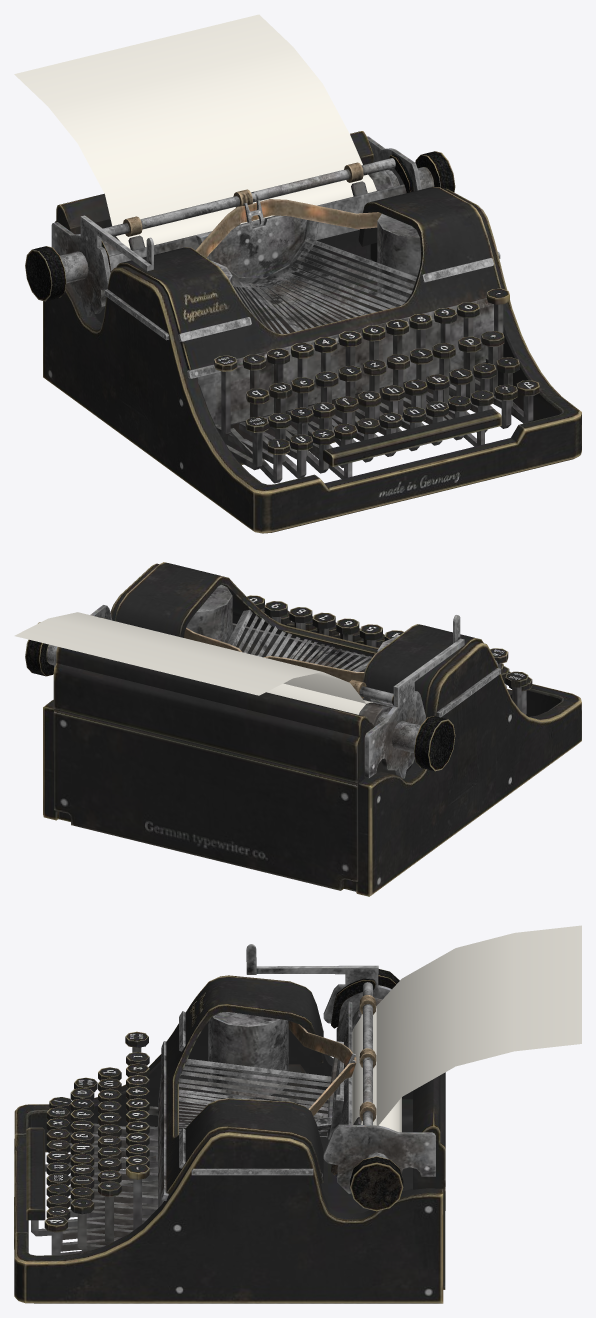
File: typewriter_01.gltf
The picture shows the model from 3 angles, top to bottom: view 1: azimuth 30°, elevation 25°; view 2: azimuth 150°, elevation 25°; view 3: azimuth 270°, elevation 25°; orthographic projection.
Visible parts, largest first — view 1: typewriter, paper; view 2: typewriter, paper; view 3: typewriter, paper.
Boxes of the visible parts, x1=… form: typewriter: x1=25, y1=131, x2=581, y2=533; paper: x1=14, y1=14, x2=376, y2=248; typewriter: x1=25, y1=562, x2=581, y2=896; paper: x1=14, y1=612, x2=372, y2=714; typewriter: x1=14, y1=944, x2=445, y2=1303; paper: x1=352, y1=925, x2=581, y2=1132.
Bounding box in the file's own units: 4.82 × 2.77 × 5.94.
2 materials, 1 textured.
